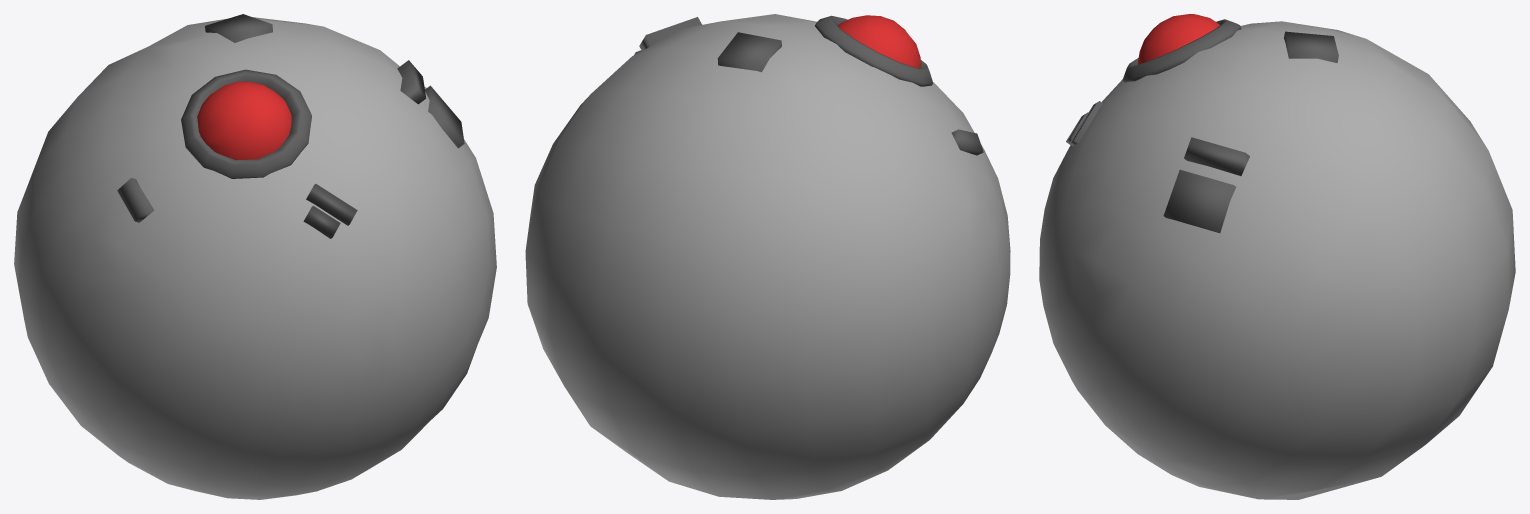
The model's file is VI bunker.fbx.
3 views of the same model, side by side, from view 1: azimuth 30°, elevation 25°; view 2: azimuth 150°, elevation 25°; view 3: azimuth 270°, elevation 25° (orthographic).
Visible parts, largest first — view 1: PM3D_Plane3D193_024; view 2: PM3D_Plane3D193_024; view 3: PM3D_Plane3D193_024.
Boxes of the visible parts, <box> form: PM3D_Plane3D193_024: <box>14,14,496,499</box>; PM3D_Plane3D193_024: <box>525,14,1010,499</box>; PM3D_Plane3D193_024: <box>1039,14,1515,499</box>.
Size of the model in its own units: 392 by 396 by 391.
